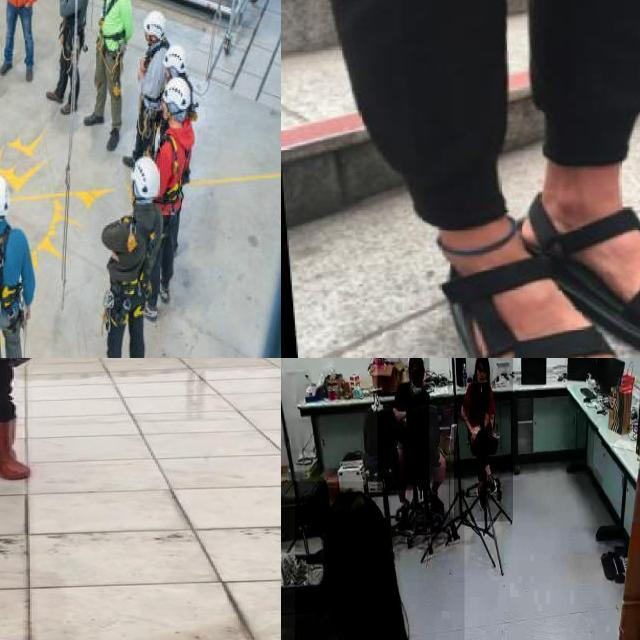Harness: (99, 212, 160, 330), (162, 126, 198, 235), (96, 0, 130, 100), (0, 227, 27, 341), (138, 48, 170, 141), (58, 0, 90, 76)
Sandals: (515, 152, 640, 358), (438, 248, 635, 358)
boots: (0, 417, 33, 481)
face_nomask: (410, 369, 422, 388), (476, 365, 486, 383)
hand_noglove: (469, 426, 479, 444), (469, 424, 479, 434)
head_nohelmet: (321, 488, 391, 552), (408, 358, 424, 366), (475, 358, 488, 362)
person: (295, 481, 465, 640), (454, 358, 513, 522), (377, 358, 430, 490)
shoes: (484, 468, 500, 501), (476, 480, 490, 512)
